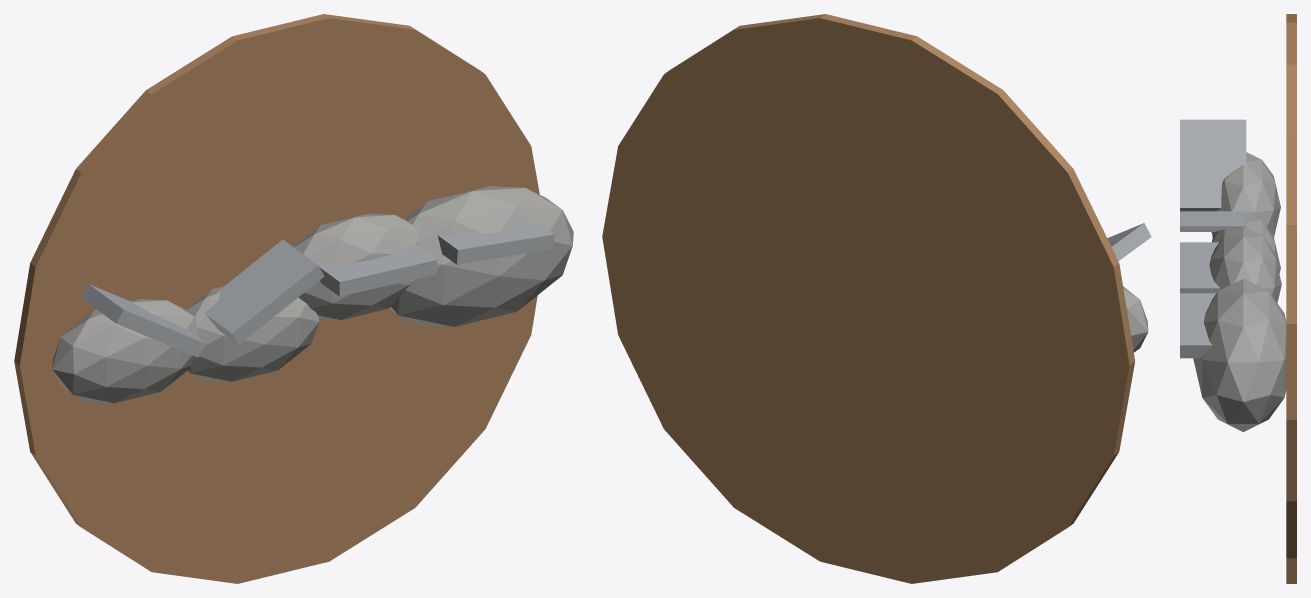
File: 02_local_prop_cluster.glb
3 views of the same model, side by side, from view 1: azimuth 30°, elevation 25°; view 2: azimuth 150°, elevation 25°; view 3: azimuth 270°, elevation 25° (orthographic). The views are drawn at different scales.
Parts seen in each view (by area): view 1: scatter_base, scrap_rock_3, scrap_rock_0, scrap_rock_2, scrap_rock_1, scrap_plate_1, scrap_plate_2, scrap_plate_3, scrap_plate_0; view 2: scatter_base, scrap_rock_0, scrap_plate_0; view 3: scrap_rock_3, scatter_base, scrap_plate_0, scrap_rock_2, scrap_rock_0, scrap_plate_3, scrap_plate_2, scrap_plate_1, scrap_rock_1.
Boxes of the visible parts, x1,y1,x2,y2 form: scatter_base: [14, 14, 539, 583]; scrap_rock_3: [389, 186, 573, 326]; scrap_rock_0: [52, 299, 198, 403]; scrap_rock_2: [293, 213, 418, 319]; scrap_rock_1: [186, 286, 319, 381]; scrap_plate_1: [204, 239, 324, 344]; scrap_plate_2: [319, 244, 436, 296]; scrap_plate_3: [437, 222, 554, 264]; scrap_plate_0: [81, 284, 205, 357]; scatter_base: [602, 14, 1135, 583]; scrap_rock_0: [1123, 286, 1148, 352]; scrap_plate_0: [1107, 223, 1151, 260]; scrap_rock_3: [1193, 279, 1286, 432]; scatter_base: [1286, 14, 1296, 583]; scrap_plate_0: [1180, 119, 1246, 211]; scrap_rock_2: [1209, 226, 1281, 302]; scrap_rock_0: [1211, 152, 1280, 236]; scrap_plate_3: [1180, 293, 1216, 358]; scrap_plate_2: [1180, 242, 1220, 293]; scrap_plate_1: [1180, 211, 1246, 231]; scrap_rock_1: [1212, 213, 1280, 273].
Size of the model in its own units: 1.91 by 1.87 by 0.3875.
